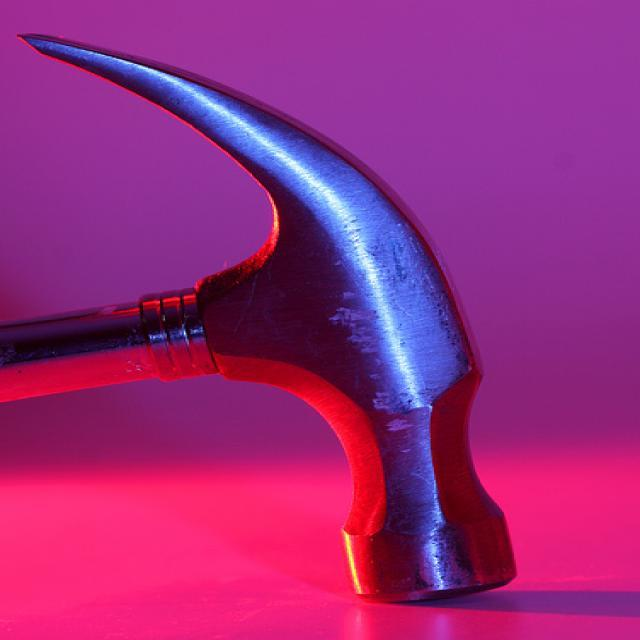hammer: (12, 19, 542, 623)
